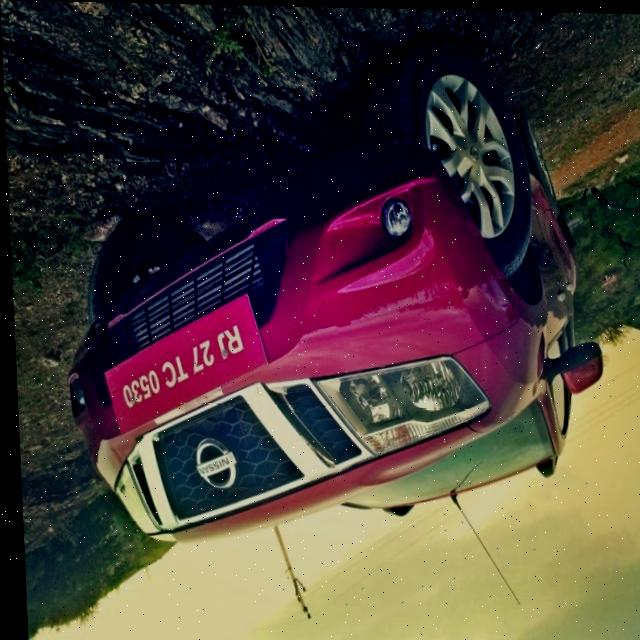plate: (93, 279, 273, 441)
